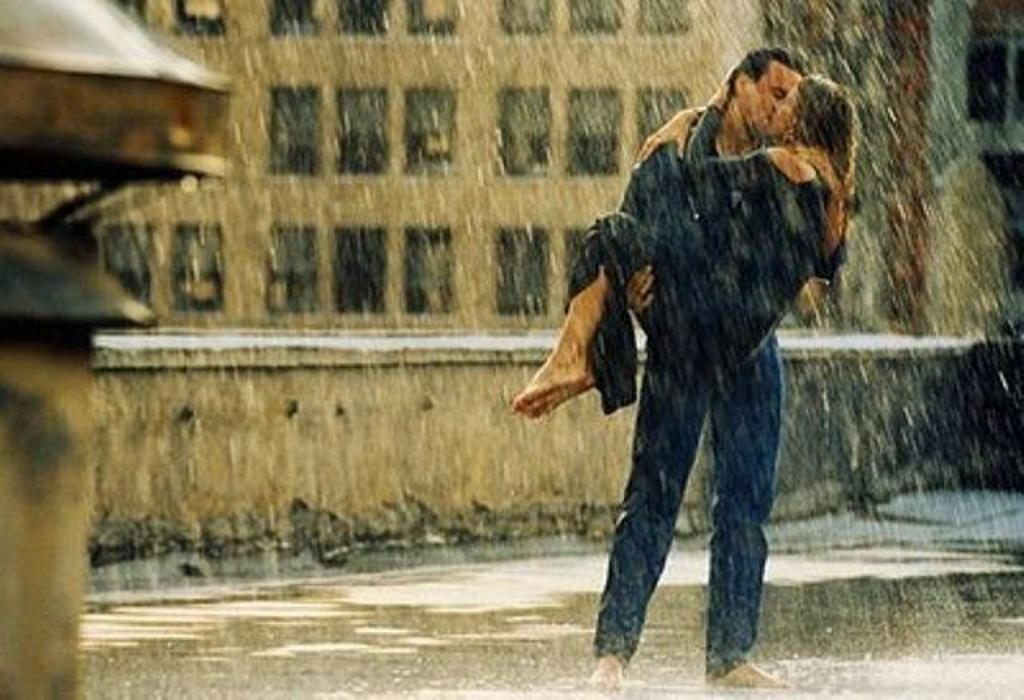face: (742, 59, 802, 135), (767, 78, 806, 136)
